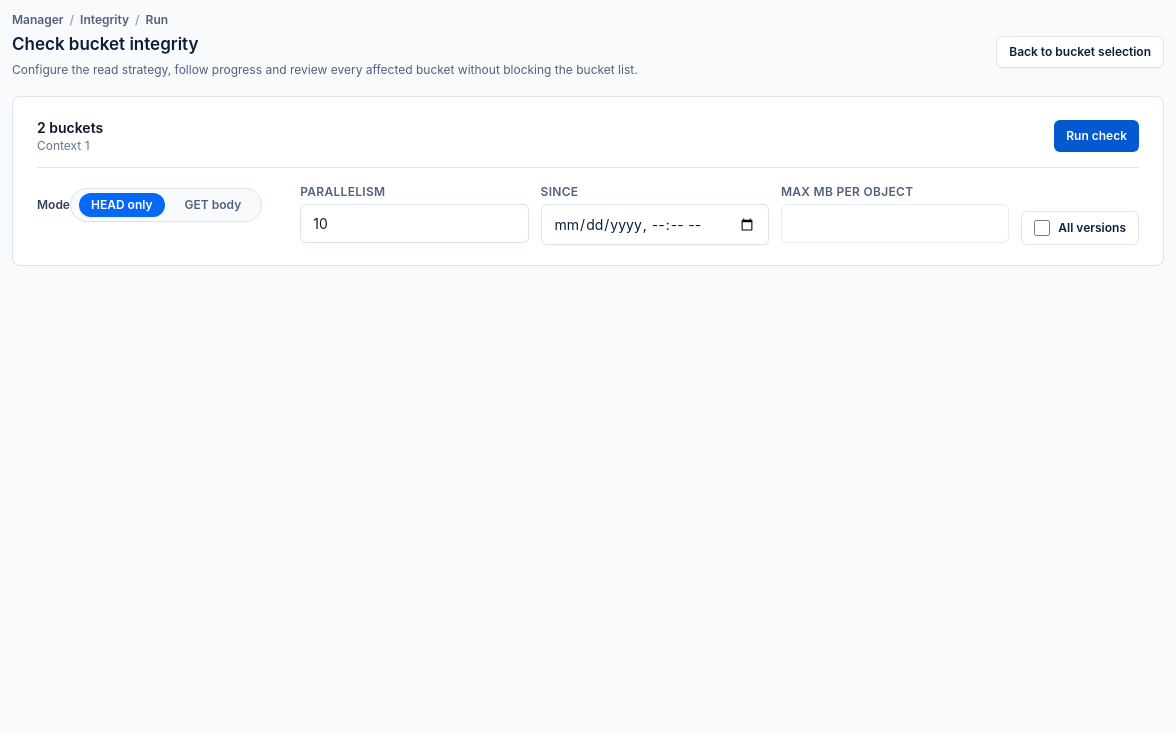
Test case: BucketIntegrityCheckModal results › filters bucket results by object text, status, and error state
This screenshot has width=1176, height=732.
Click the button "Run check" at (1097, 136), box [1054, 120, 1139, 152]
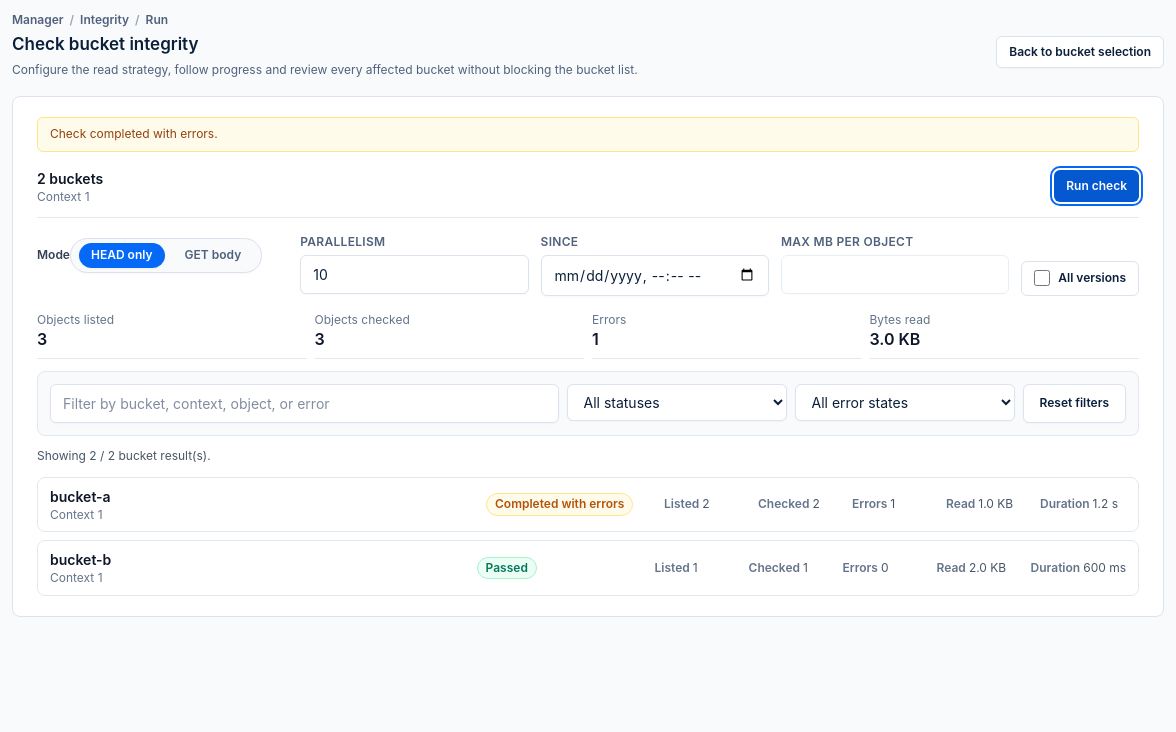
Result: the text "Showing 2 / 2 bucket result(s)." is shown at [37, 448, 211, 463]
Type "broken" into the field with placeholder "Filter by bucket, context, object, or error" at (304, 404), box [50, 384, 558, 423]
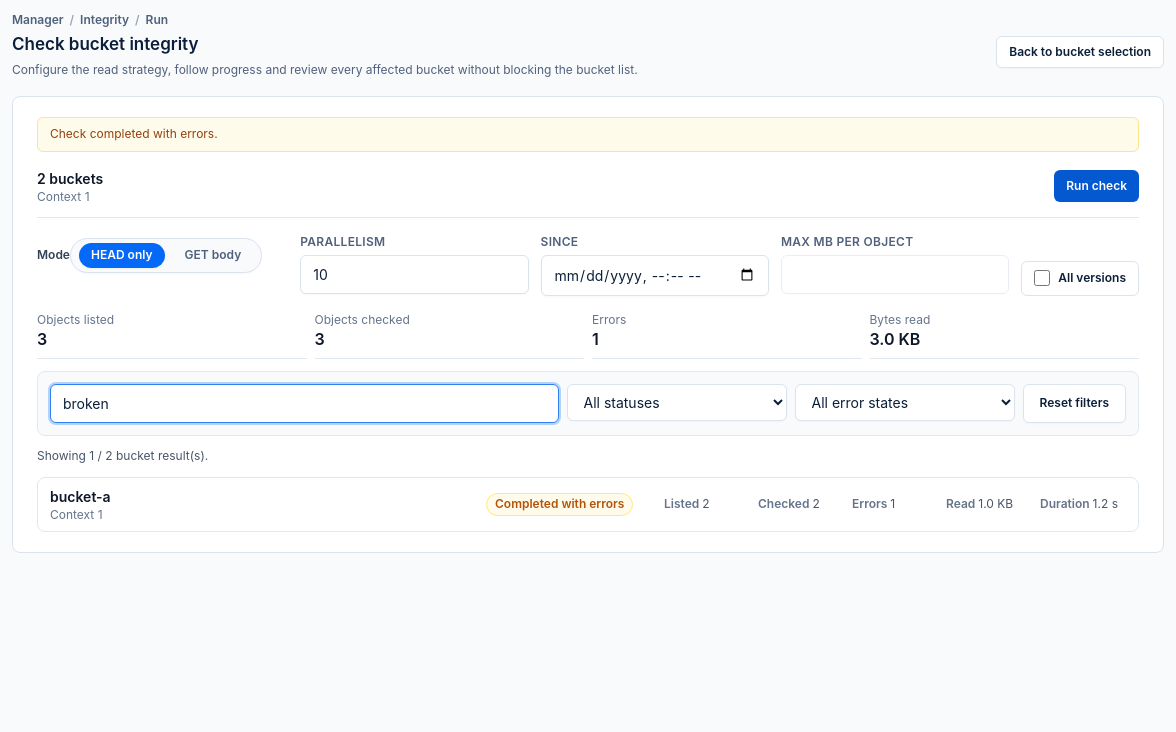
Result: the text "bucket-a" is shown at [50, 488, 111, 504]
Result: the text "Showing 1 / 2 bucket result(s)." is shown at [37, 448, 208, 463]
Result: the heading "bucket-b" is gone
Click the button "Reset filters" at (1074, 404), box [1022, 384, 1126, 423]
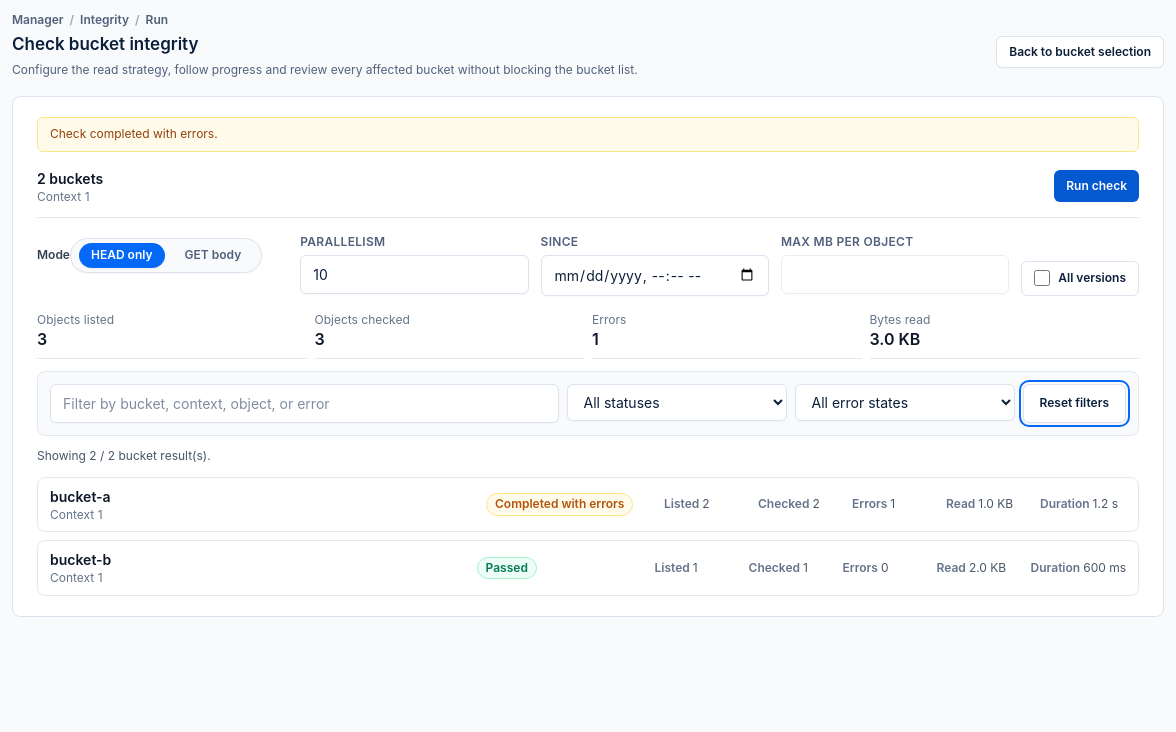
Select "Passed" in the dropdown named "Filter integrity status" at (676, 402), box [566, 384, 786, 421]
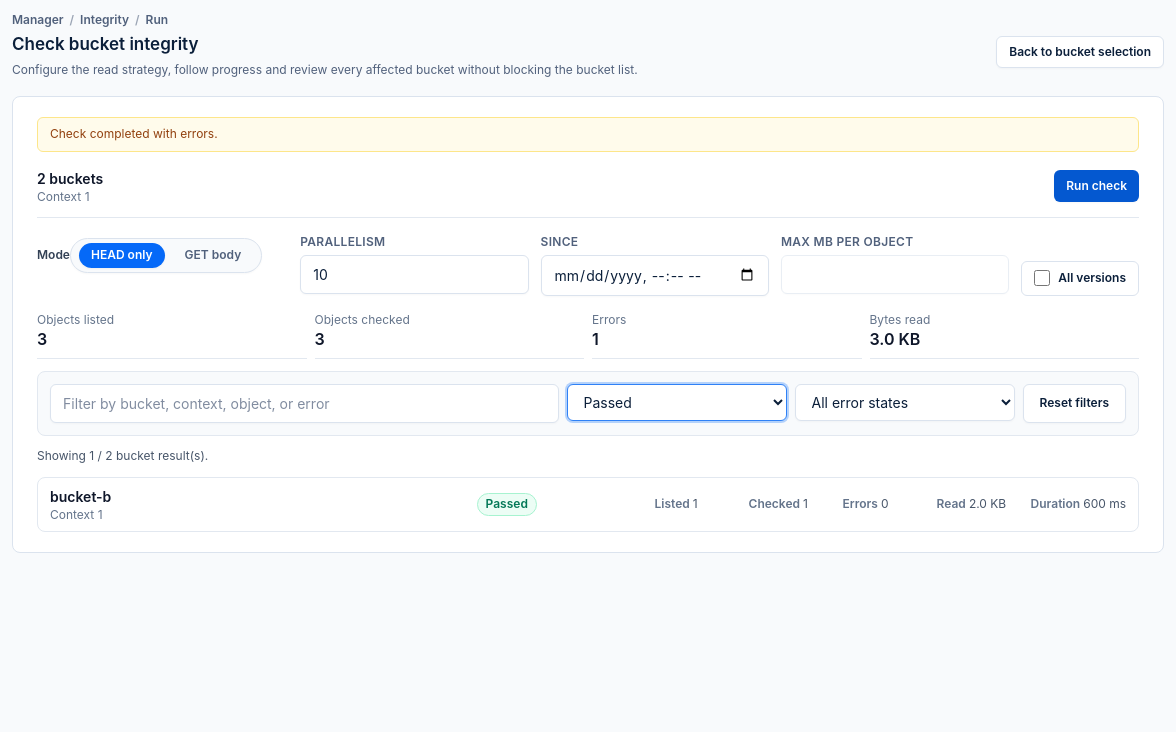
Result: the text "bucket-b" is shown at [50, 488, 111, 504]
Result: the text "Showing 1 / 2 bucket result(s)." is shown at [37, 448, 208, 463]
Result: the heading "bucket-a" is gone
Select "All statuses" in the dropdown named "Filter integrity status" at (676, 402), box [566, 384, 786, 421]
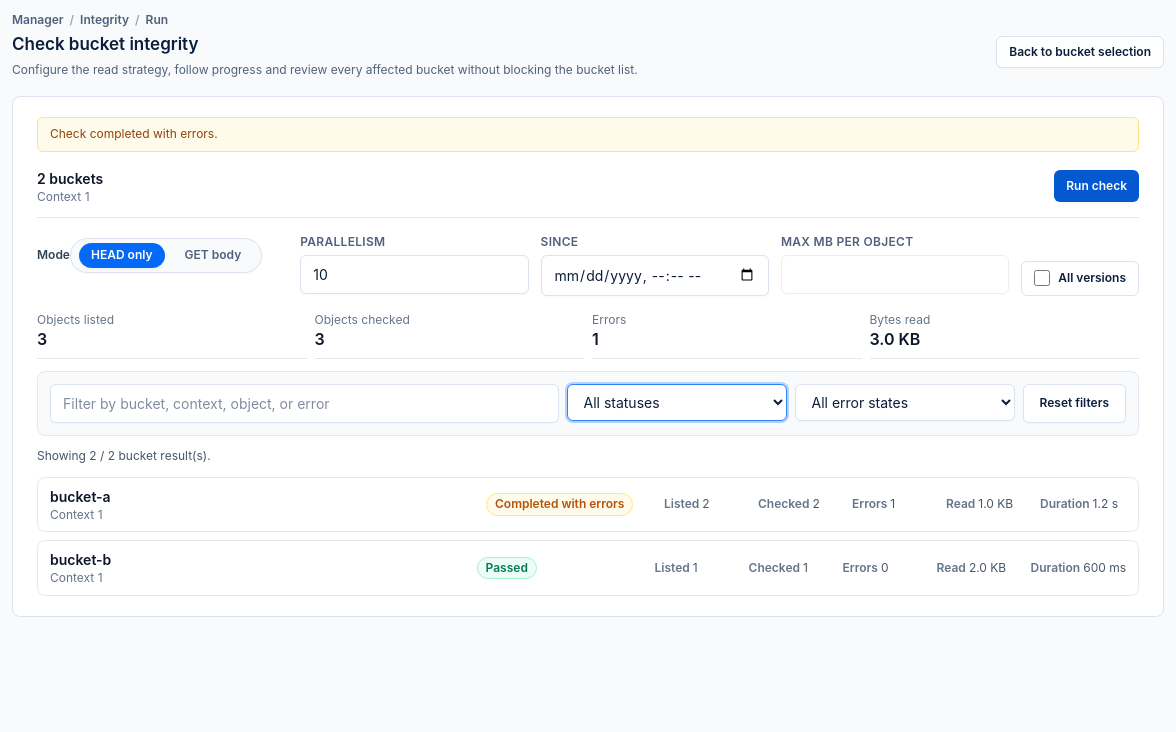
Select "With errors" in the dropdown named "Filter integrity errors" at (904, 402), box [794, 384, 1014, 421]
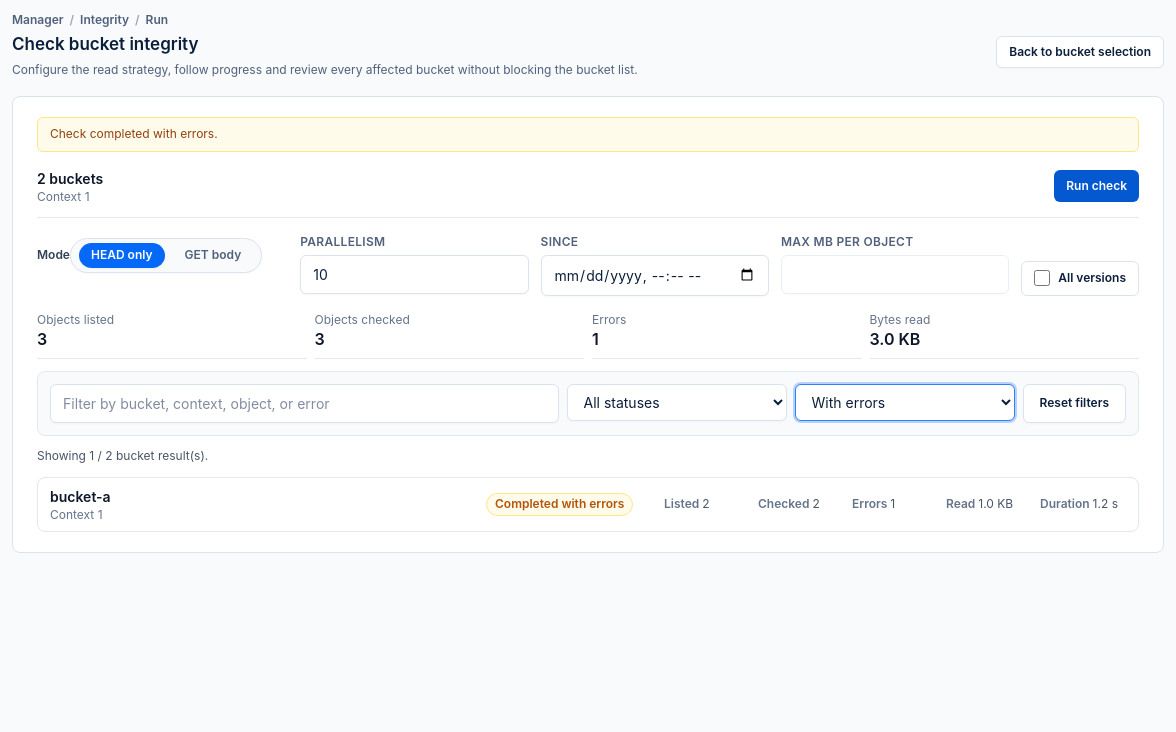
Result: the text "bucket-a" is shown at [50, 488, 111, 504]
Result: the text "Showing 1 / 2 bucket result(s)." is shown at [37, 448, 208, 463]
Result: the heading "bucket-b" is gone
